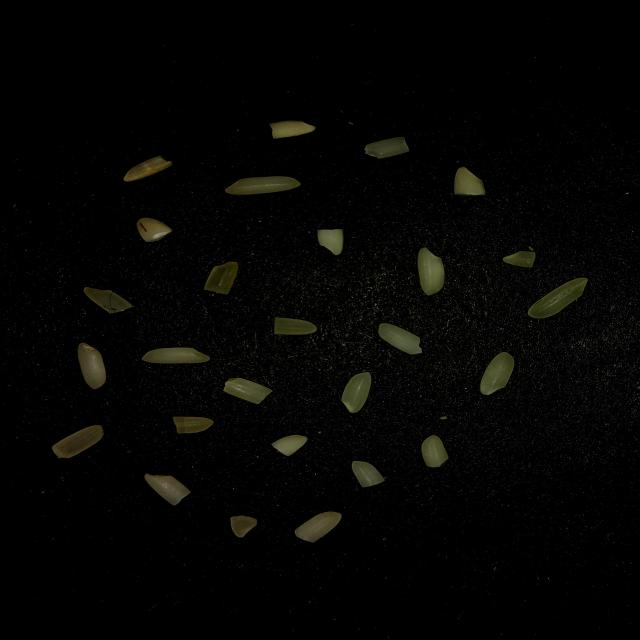Broken: (52, 424, 104, 458), (294, 511, 343, 543), (145, 474, 192, 506), (379, 322, 422, 354), (84, 286, 133, 314), (222, 377, 272, 404), (122, 155, 172, 181), (204, 262, 238, 294), (364, 136, 410, 159), (454, 167, 486, 196), (352, 460, 385, 488), (270, 120, 316, 140), (137, 217, 173, 242), (421, 435, 449, 467), (317, 229, 349, 255), (271, 434, 308, 456), (274, 317, 318, 335), (172, 416, 214, 434), (503, 250, 536, 268), (230, 516, 257, 538)
Full: (528, 277, 588, 318), (480, 352, 515, 395), (416, 247, 446, 296), (224, 176, 300, 195), (78, 342, 107, 390), (341, 372, 372, 413), (142, 348, 210, 363)
